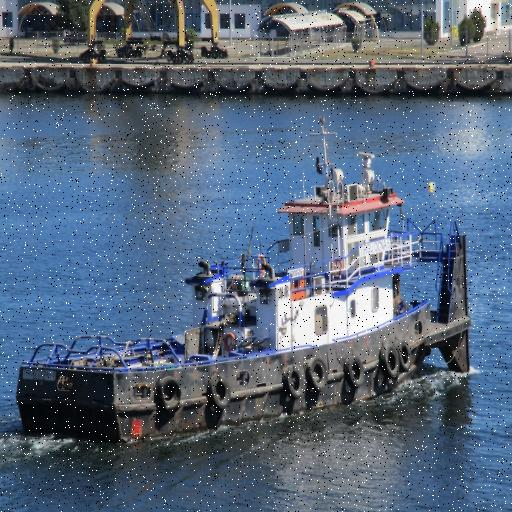tugboat: (15, 115, 475, 456)
